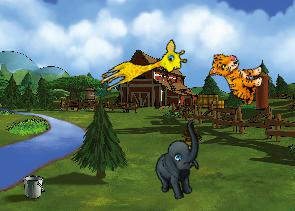elephant: (141, 119, 219, 204)
giraffe: (96, 36, 190, 103)
tiger: (204, 50, 267, 106)
